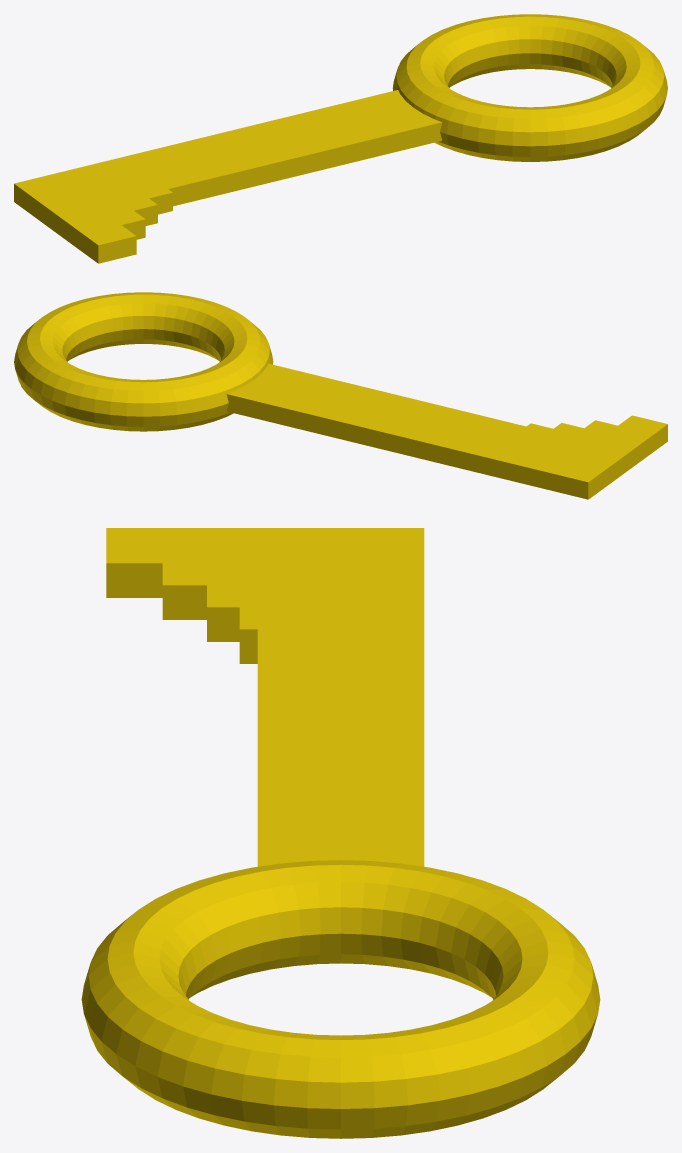
The model's file is Key.fbx.
3 views of the same model, one above another, from view 1: azimuth 30°, elevation 25°; view 2: azimuth 150°, elevation 25°; view 3: azimuth 270°, elevation 25° (orthographic). The views are drawn at different scales.
Visible parts, largest first — view 1: Plane; view 2: Plane; view 3: Plane.
Part boxes in pixels (x1,y1,x2,y2): Plane: (14, 14, 667, 263); Plane: (14, 292, 667, 499); Plane: (81, 528, 600, 1138).
Bounding box in the file's own units: 42.78 × 3.32 × 16.62.
